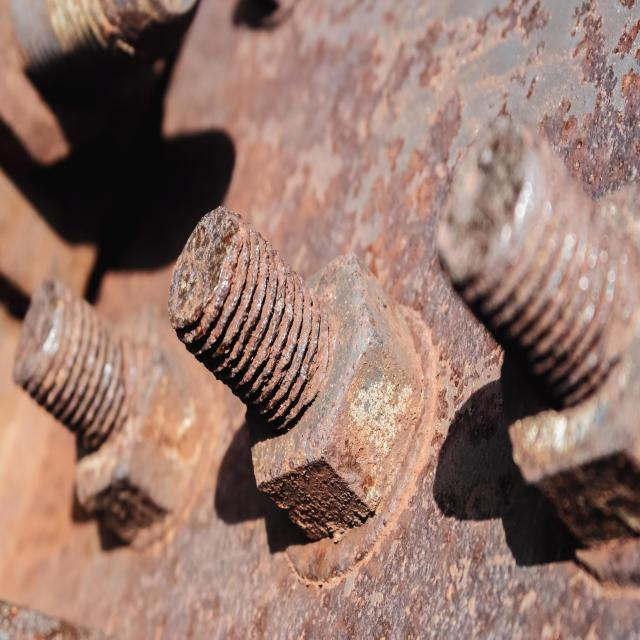Rusty bolt: (444, 125, 640, 556), (176, 212, 427, 526), (17, 277, 187, 532)
